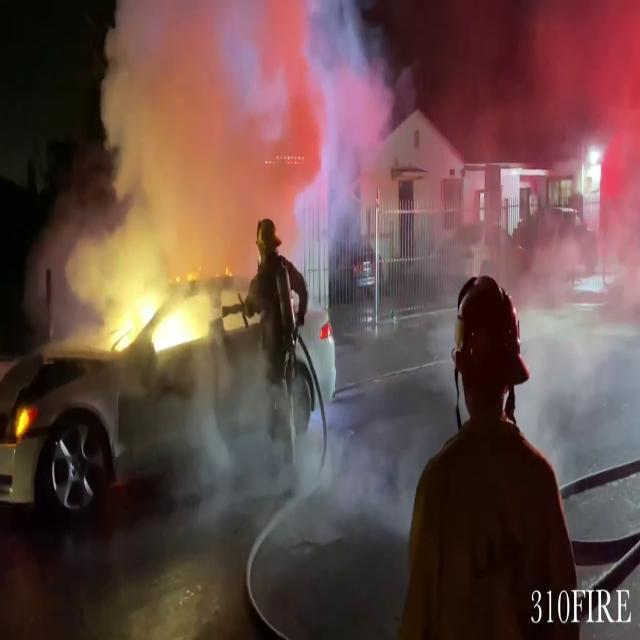Fire: (93, 270, 213, 364)
Smoke: (56, 1, 393, 297)
